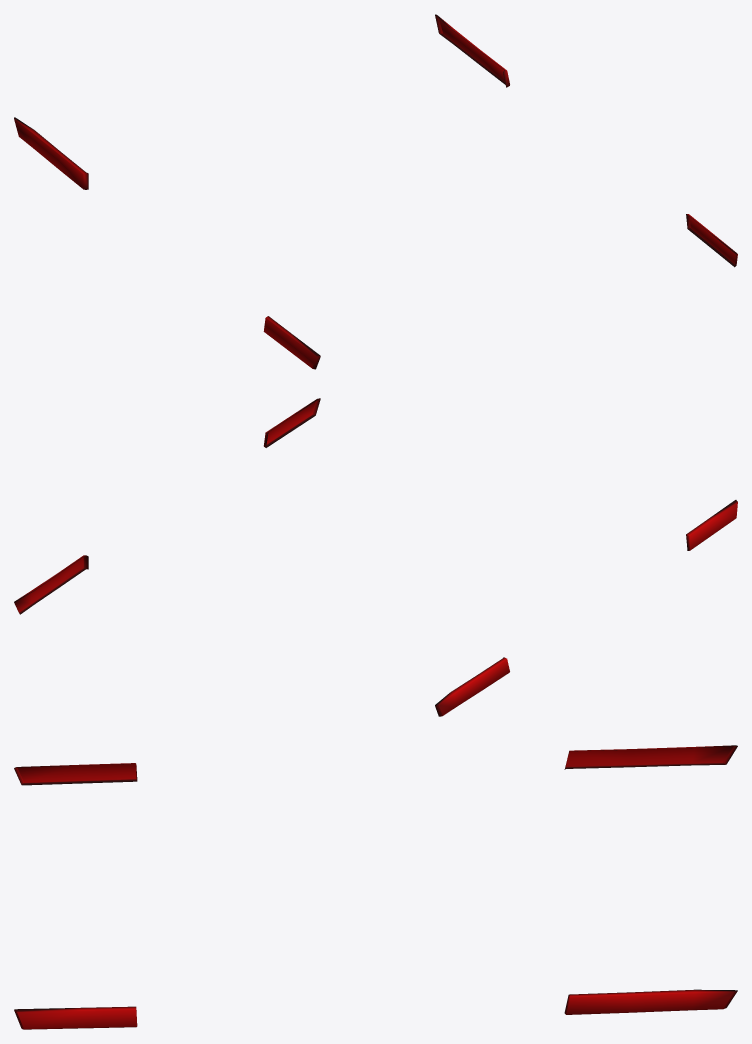
Rendered from BMW_E36_Fenders01_Trim.fbx.
The picture shows the model from 3 angles, top to bottom: view 1: azimuth 30°, elevation 25°; view 2: azimuth 150°, elevation 25°; view 3: azimuth 270°, elevation 25°; orthographic projection. The views are drawn at different scales.
Parts seen in each view (by area): view 1: BMW_E36_Fenders01_Trim; view 2: BMW_E36_Fenders01_Trim; view 3: BMW_E36_Fenders01_Trim.
Part boxes in pixels (x1=…): BMW_E36_Fenders01_Trim: x1=14, y1=14, x2=737, y2=369; BMW_E36_Fenders01_Trim: x1=14, y1=398, x2=737, y2=716; BMW_E36_Fenders01_Trim: x1=14, y1=745, x2=737, y2=1029.
Size of the model in its own units: 1.7 by 0.1258 by 2.1.
